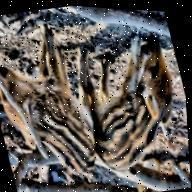boar: (65, 21, 191, 188), (0, 35, 107, 192)
